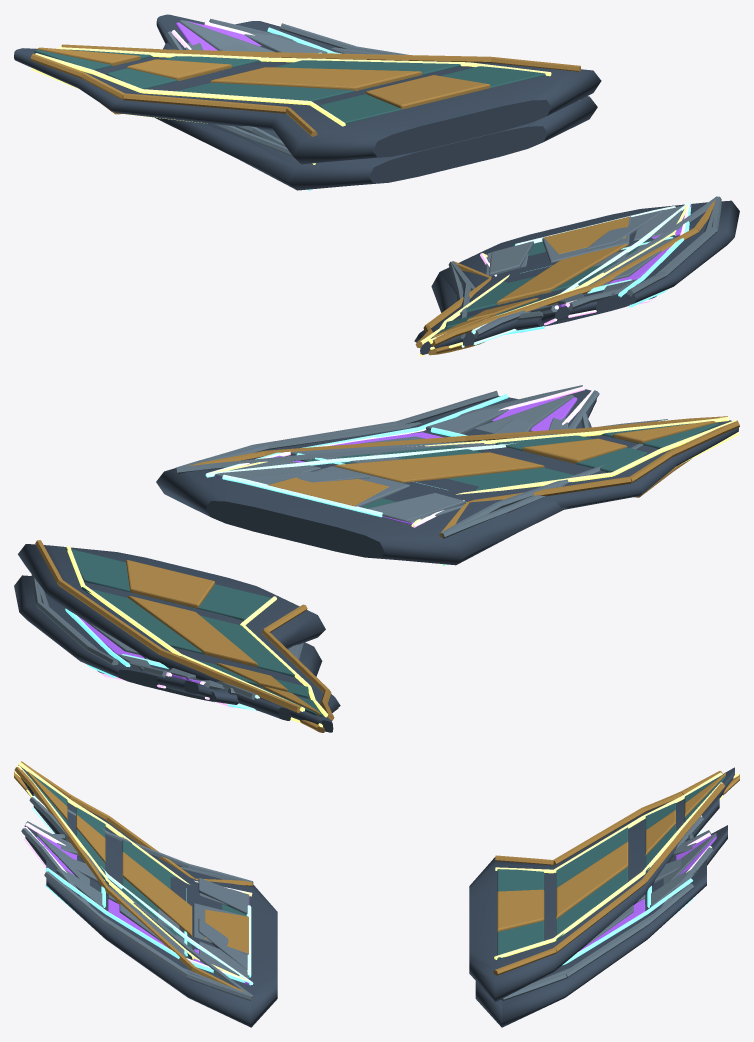
Rendered from wings.glb.
3 views of the same model, one above another, from view 1: azimuth 30°, elevation 25°; view 2: azimuth 150°, elevation 25°; view 3: azimuth 270°, elevation 25° (orthographic). The views are drawn at different scales.
Visible parts, largest first — view 1: w_phantom Fitting gunmetal, w_phantom Champagne gold edging, w_razor Fitting gunmetal, w_phantom Phantom blue-black enamel, w_vane Fitting gunmetal, w_vane Brushed fitting edges, w_phantom w_phantom emitter, w_razor Brushed fitting edges, w_prism Brushed fitting edges, w_vane w_vane emitter, w_prism Fitting gunmetal, w_prism Violet prismatic glass (+2 smaller); view 2: w_phantom Champagne gold edging, w_razor Fitting gunmetal, w_phantom Fitting gunmetal, w_phantom Phantom blue-black enamel, w_vane Fitting gunmetal, w_vane Brushed fitting edges, w_razor Brushed fitting edges, w_prism Brushed fitting edges, w_phantom w_phantom emitter, w_vane w_vane emitter, w_razor w_razor emitter, w_prism Violet prismatic glass (+2 smaller); view 3: w_phantom Champagne gold edging, w_phantom Fitting gunmetal, w_vane Fitting gunmetal, w_phantom Phantom blue-black enamel, w_vane Brushed fitting edges, w_razor Fitting gunmetal, w_prism Brushed fitting edges, w_razor Brushed fitting edges, w_phantom w_phantom emitter, w_vane w_vane emitter, w_prism Violet prismatic glass, w_razor w_razor emitter (+2 smaller).
Boxes of the visible parts, x1=… form: w_phantom Fitting gunmetal: x1=14, y1=48, x2=700, y2=354; w_phantom Champagne gold edging: x1=30, y1=44, x2=715, y2=355; w_razor Fitting gunmetal: x1=203, y1=96, x2=705, y2=346; w_phantom Phantom blue-black enamel: x1=34, y1=49, x2=684, y2=338; w_vane Fitting gunmetal: x1=155, y1=21, x2=739, y2=330; w_vane Brushed fitting edges: x1=185, y1=23, x2=721, y2=319; w_phantom w_phantom emitter: x1=31, y1=46, x2=688, y2=356; w_razor Brushed fitting edges: x1=235, y1=126, x2=717, y2=338; w_prism Brushed fitting edges: x1=165, y1=18, x2=719, y2=313; w_vane w_vane emitter: x1=267, y1=27, x2=690, y2=334; w_prism Fitting gunmetal: x1=156, y1=14, x2=705, y2=322; w_prism Violet prismatic glass: x1=176, y1=20, x2=691, y2=307; w_phantom Champagne gold edging: x1=35, y1=416, x2=739, y2=732; w_razor Fitting gunmetal: x1=156, y1=461, x2=546, y2=720; w_phantom Fitting gunmetal: x1=18, y1=420, x2=738, y2=732; w_phantom Phantom blue-black enamel: x1=66, y1=423, x2=718, y2=716; w_vane Fitting gunmetal: x1=14, y1=396, x2=591, y2=704; w_vane Brushed fitting edges: x1=31, y1=390, x2=589, y2=694; w_razor Brushed fitting edges: x1=176, y1=419, x2=667, y2=699; w_prism Brushed fitting edges: x1=36, y1=385, x2=599, y2=689; w_phantom w_phantom emitter: x1=66, y1=417, x2=739, y2=727; w_vane w_vane emitter: x1=65, y1=394, x2=508, y2=710; w_razor w_razor emitter: x1=177, y1=419, x2=668, y2=720; w_prism Violet prismatic glass: x1=78, y1=395, x2=577, y2=683; w_phantom Champagne gold edging: x1=14, y1=761, x2=739, y2=992; w_phantom Fitting gunmetal: x1=19, y1=765, x2=734, y2=1001; w_vane Fitting gunmetal: x1=46, y1=839, x2=706, y2=1027; w_phantom Phantom blue-black enamel: x1=27, y1=773, x2=725, y2=979; w_vane Brushed fitting edges: x1=44, y1=834, x2=696, y2=1000; w_razor Fitting gunmetal: x1=33, y1=795, x2=719, y2=1027; w_prism Brushed fitting edges: x1=21, y1=821, x2=716, y2=996; w_razor Brushed fitting edges: x1=29, y1=793, x2=703, y2=1000; w_phantom w_phantom emitter: x1=14, y1=762, x2=739, y2=980; w_vane w_vane emitter: x1=45, y1=867, x2=693, y2=985; w_prism Violet prismatic glass: x1=36, y1=834, x2=716, y2=984; w_razor w_razor emitter: x1=32, y1=795, x2=702, y2=984.
Bounding box in the file's own units: 37.1 × 7.11 × 58.24.
